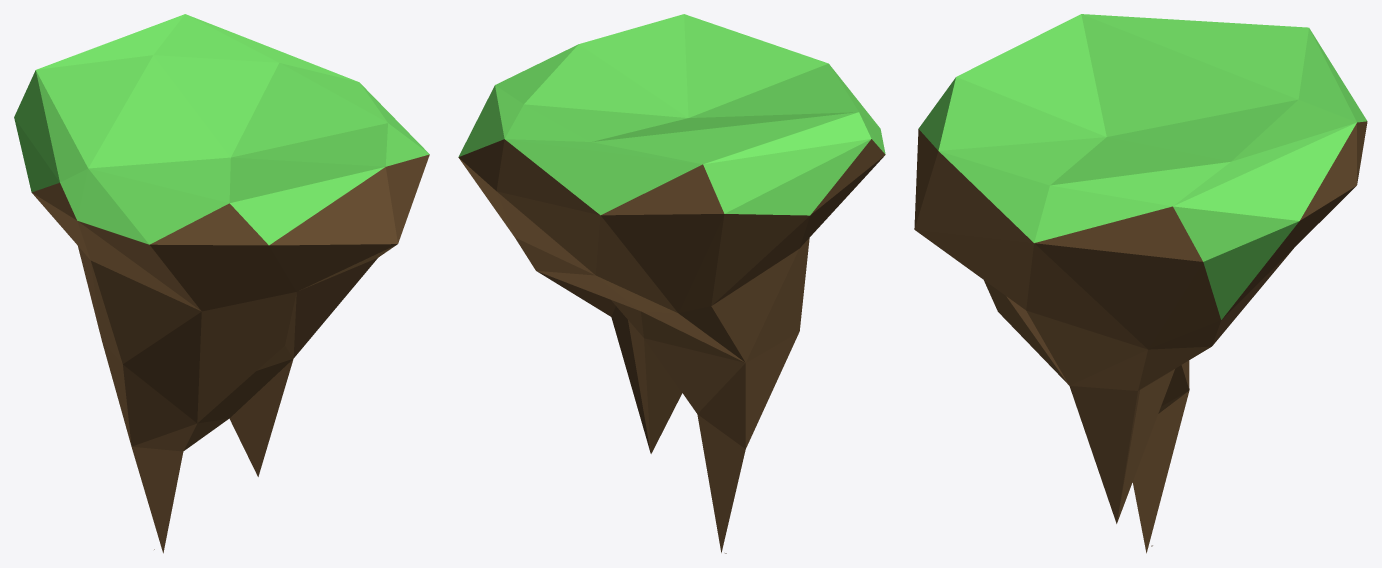
Rendered from island.gltf.
3 renders of one model, left to right at view 1: azimuth 30°, elevation 25°; view 2: azimuth 150°, elevation 25°; view 3: azimuth 270°, elevation 25°, orthographic. The views are drawn at different scales.
Visible parts, largest first — view 1: Icosphere; view 2: Icosphere; view 3: Icosphere.
Boxes of the visible parts, bbox=[...] form: Icosphere: bbox=[14, 14, 429, 553]; Icosphere: bbox=[458, 14, 885, 553]; Icosphere: bbox=[914, 14, 1367, 553].
Size of the model in its own units: 9.39 by 11.7 by 9.68.
Materials: 1 (1 with a texture image).
